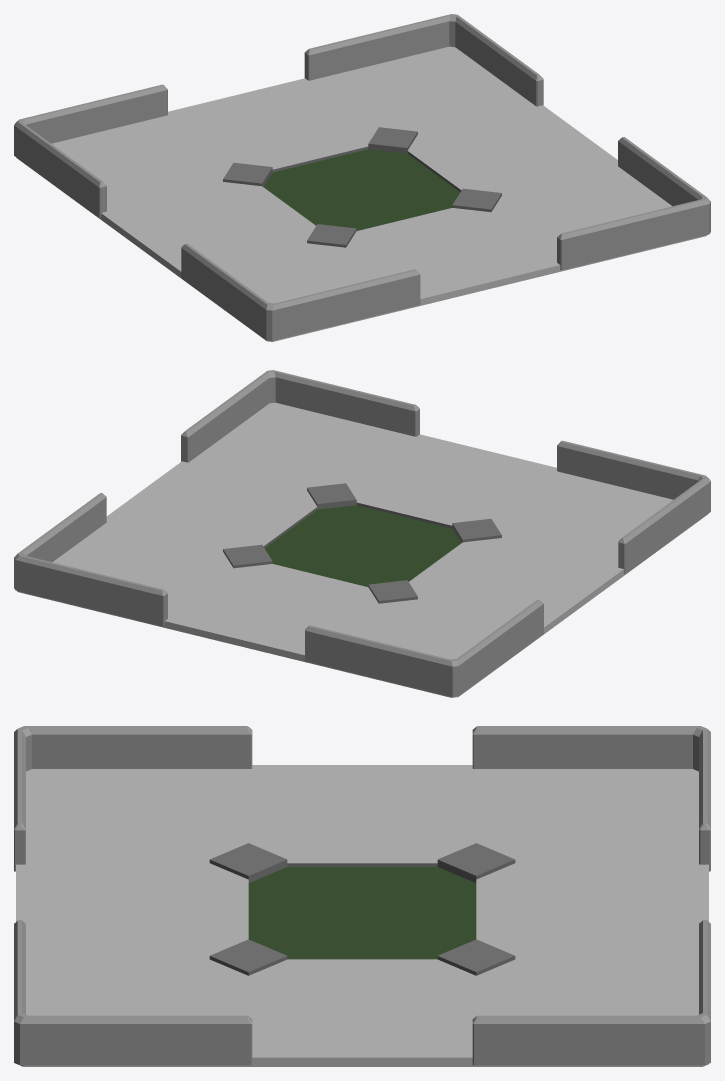
The model's file is Park_2.fbx.
The picture shows the model from 3 angles, top to bottom: view 1: azimuth 30°, elevation 25°; view 2: azimuth 150°, elevation 25°; view 3: azimuth 270°, elevation 25°; orthographic projection. The views are drawn at different scales.
Visible parts, largest first — view 1: Park_2; view 2: Park_2; view 3: Park_2.
Boxes of the visible parts, x1,y1,x2,y2 form: Park_2: [14, 14, 710, 341]; Park_2: [14, 370, 710, 697]; Park_2: [14, 726, 710, 1066].
Bounding box in the file's own units: 2012 × 155 × 2012.
